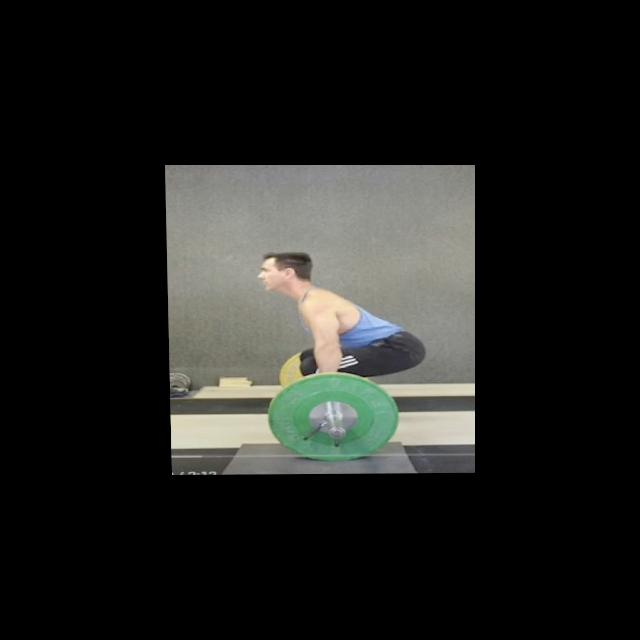barbell: (265, 370, 399, 466)
